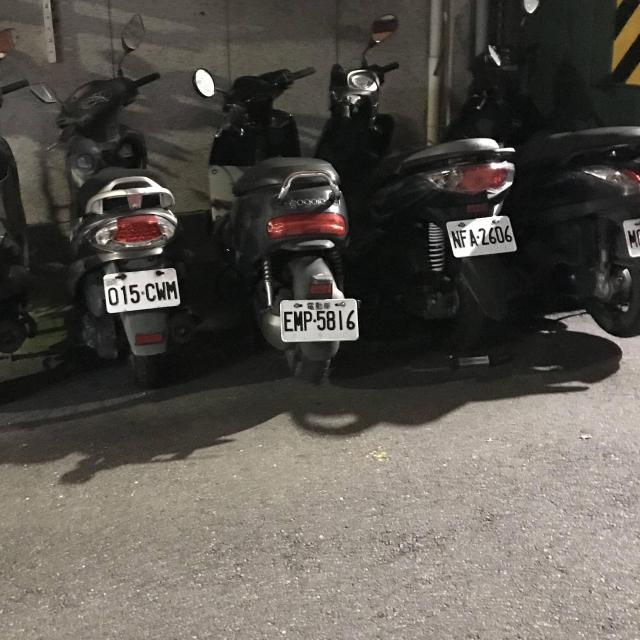W: (100, 264, 184, 315), (278, 294, 361, 345), (441, 212, 523, 259), (616, 207, 640, 260)
